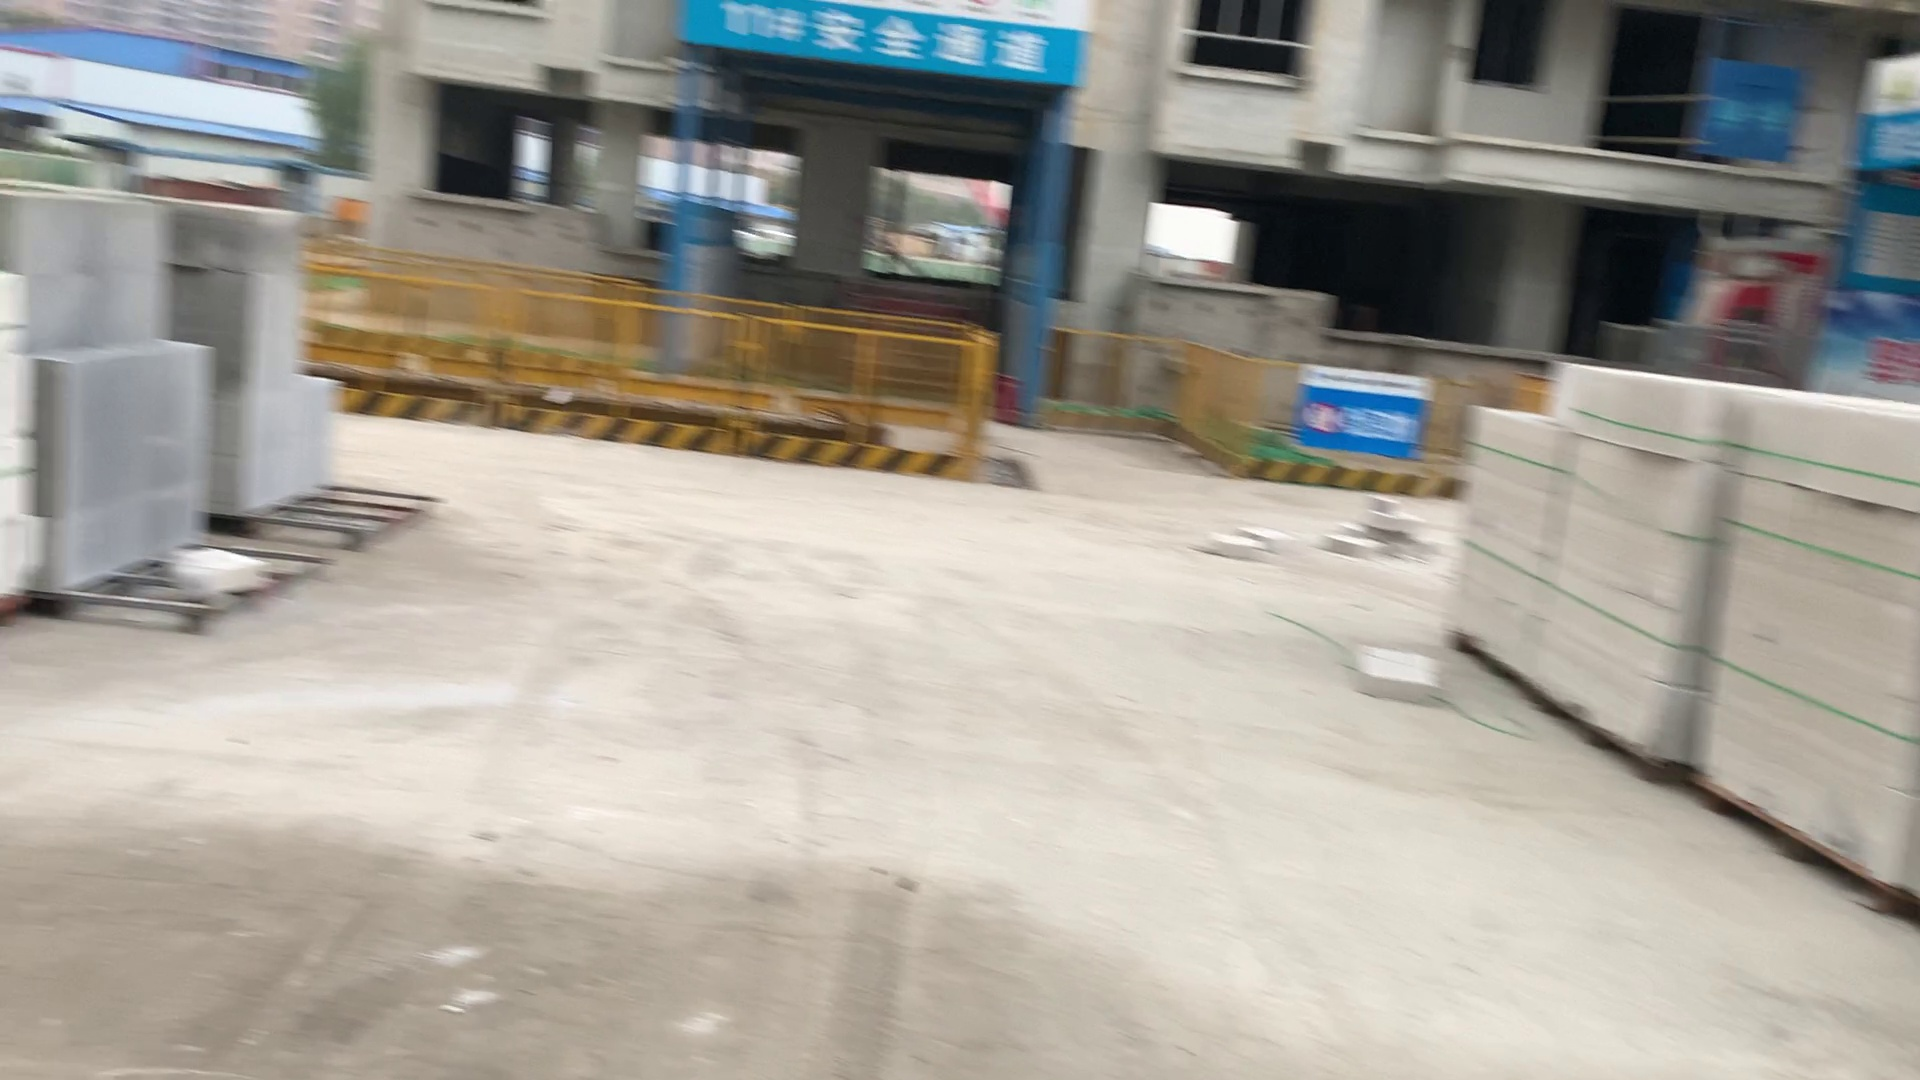brickwork: (1716, 368, 1920, 920), (18, 208, 220, 595), (1557, 340, 1709, 798), (174, 211, 347, 524), (1449, 398, 1549, 695)
